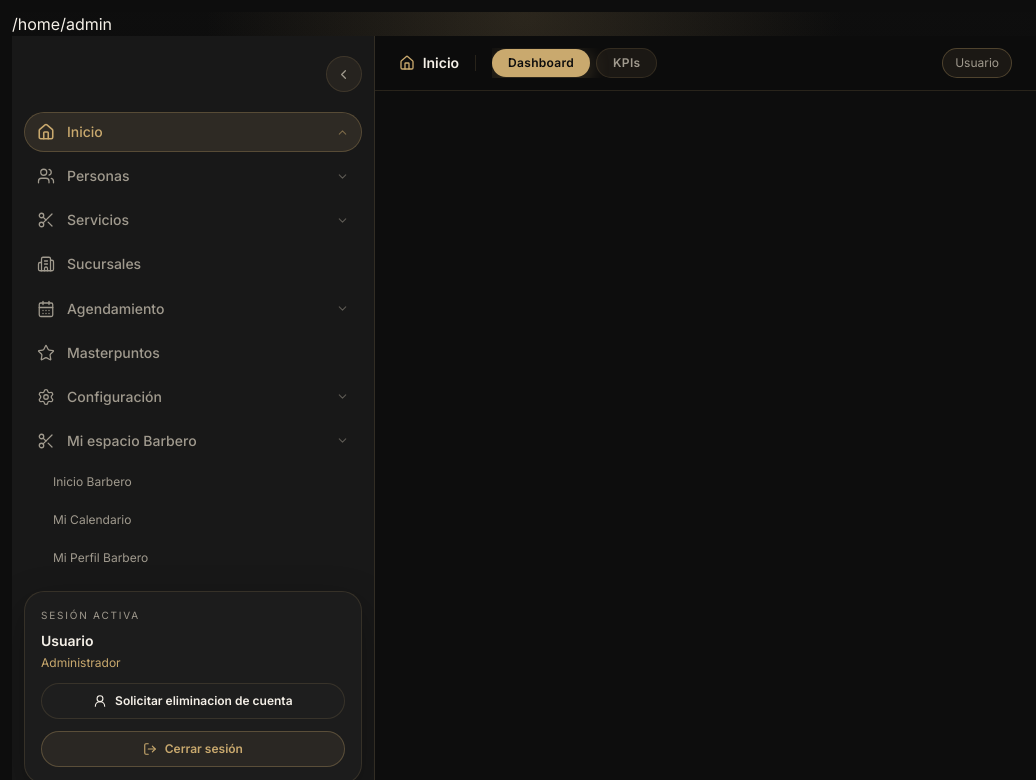
Scenario: enlace administrativo Mi Calendario navega a /home/barbero/citas
This screenshot has width=1036, height=780.
What coordinates should you click on to do the following:
click the button "Mi Calendario"
I would click on:
 (92, 520)
Its box is [40,503,362,537].
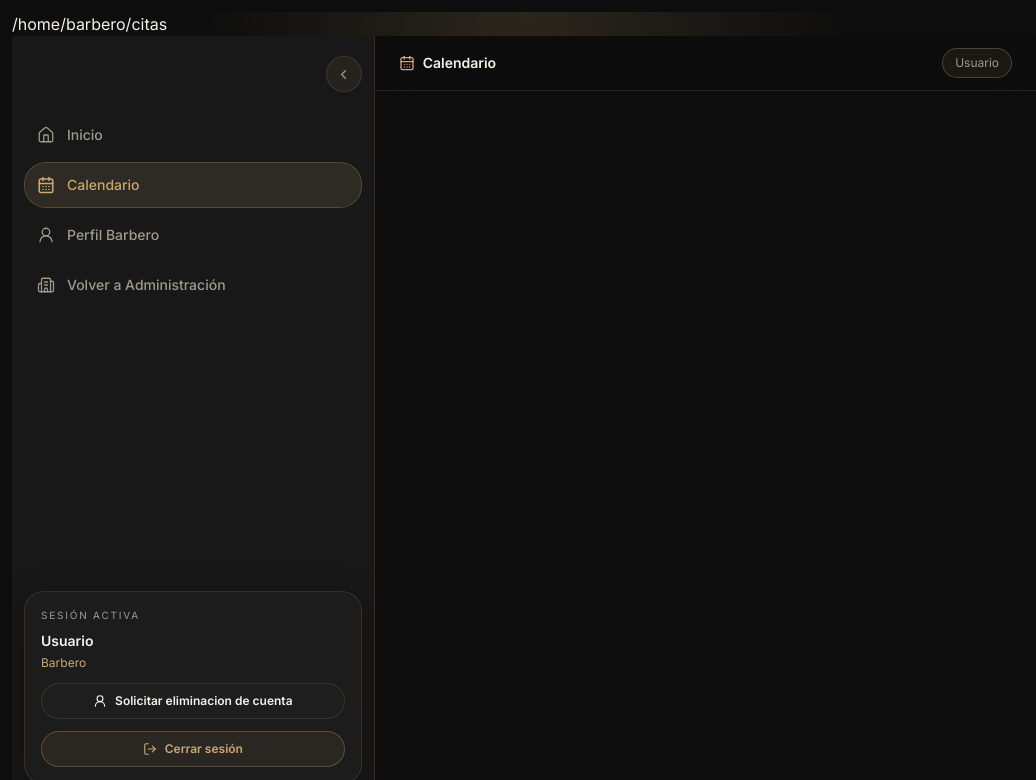
Expected: the text with test id "location" reads "/home/barbero/citas", [12,14,167,34]
